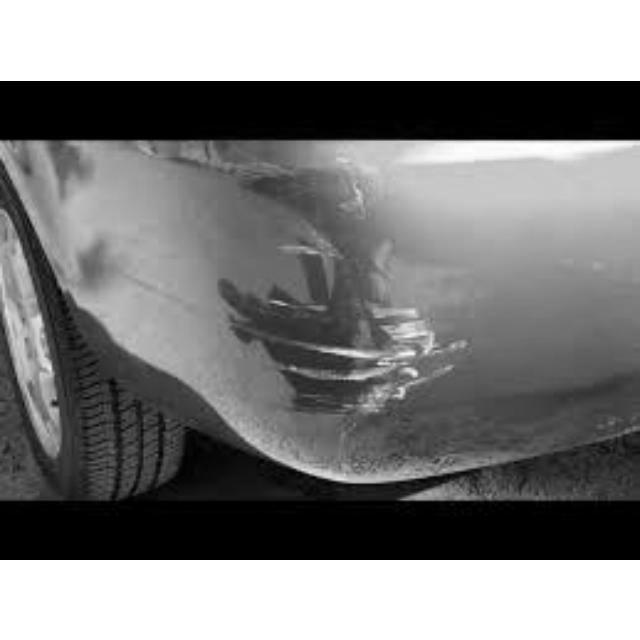rear-bumper-dent: (129, 152, 460, 443)
